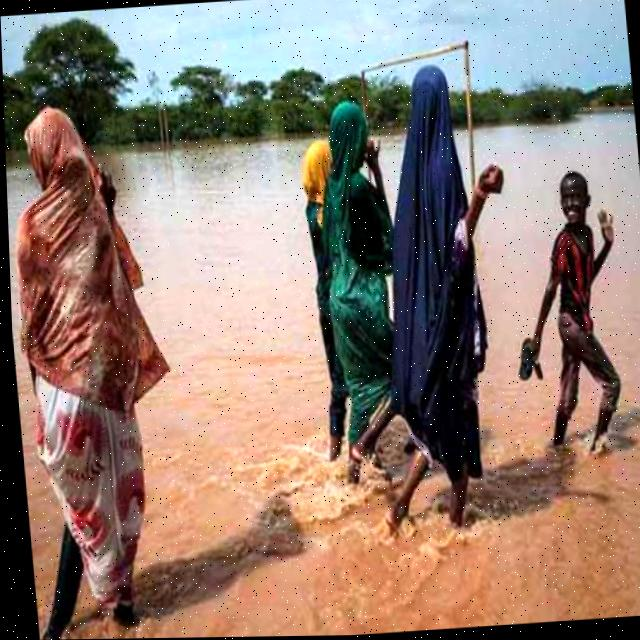civilian: (3, 80, 200, 640), (370, 56, 529, 545), (311, 84, 425, 528), (506, 157, 640, 483), (290, 137, 373, 485)
